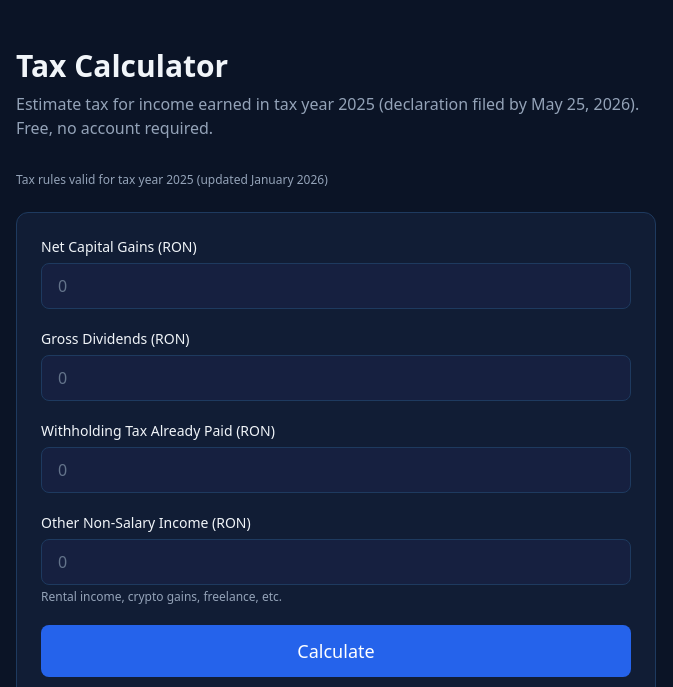
CalculatorPage › hides the early filing discount once the deadline has passed
The image size is (673, 687).
Type "10000" into the field with placeholder "0". click: [336, 286]
box: [41,263,631,309]
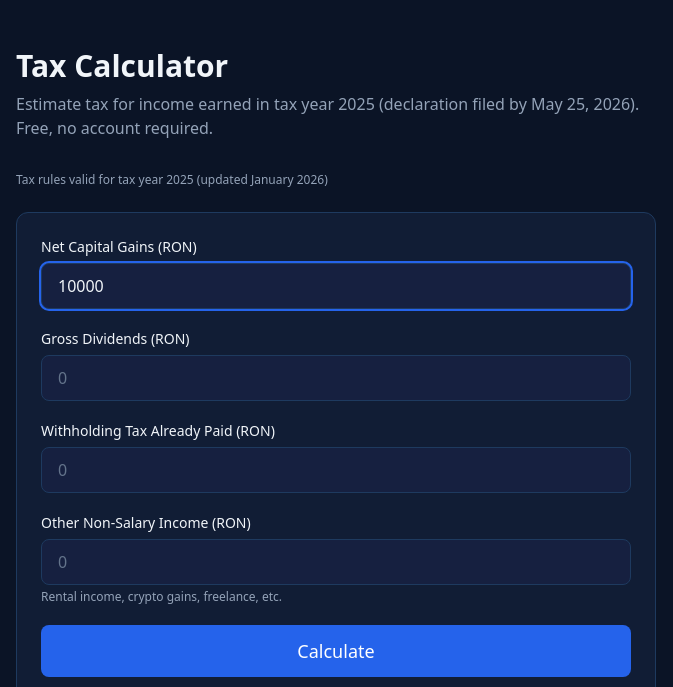
Click the button "Calculate". click: [336, 651]
box: [41,625,631,677]
(page scrolled)
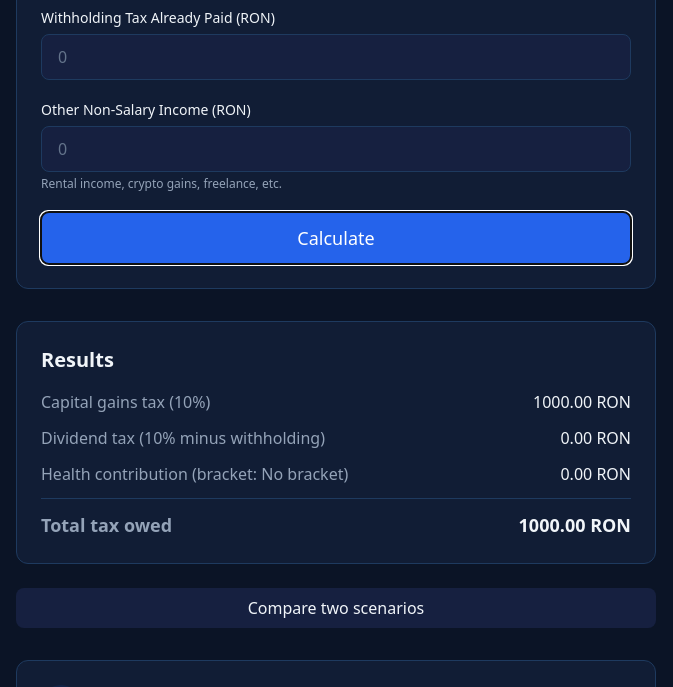
Check: the heading "Results" is shown, box [41,346,114,373]
